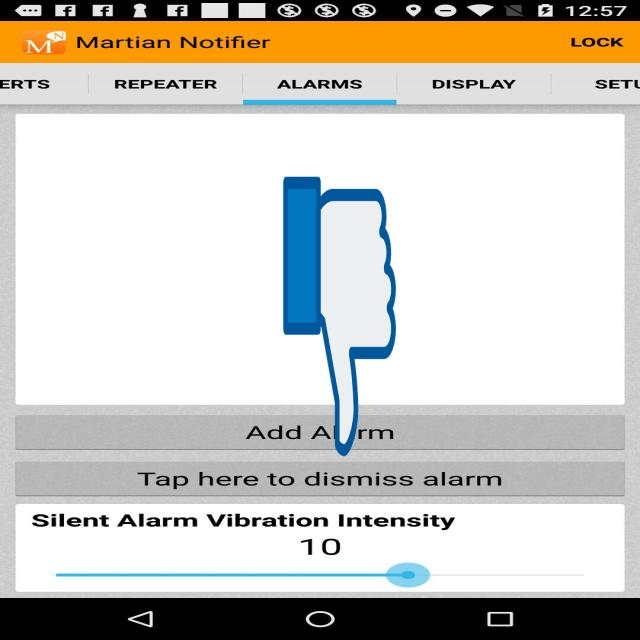obstruction: (283, 171, 396, 462)
